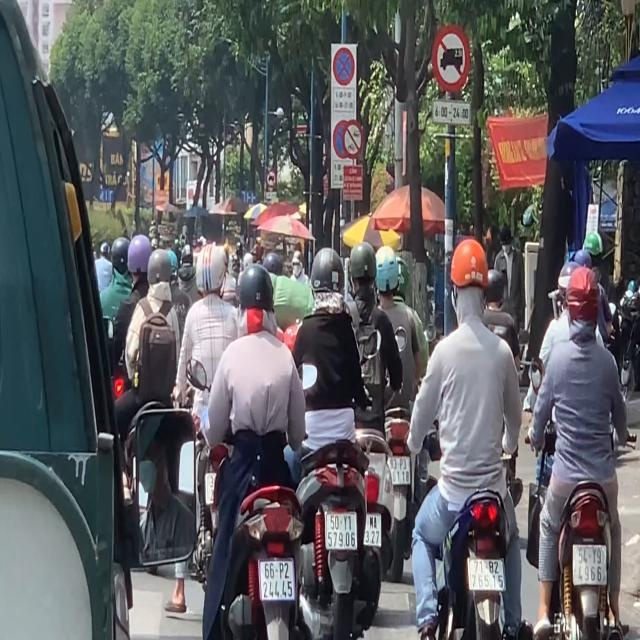bien_cam: (434, 24, 466, 92), (332, 45, 356, 88)
